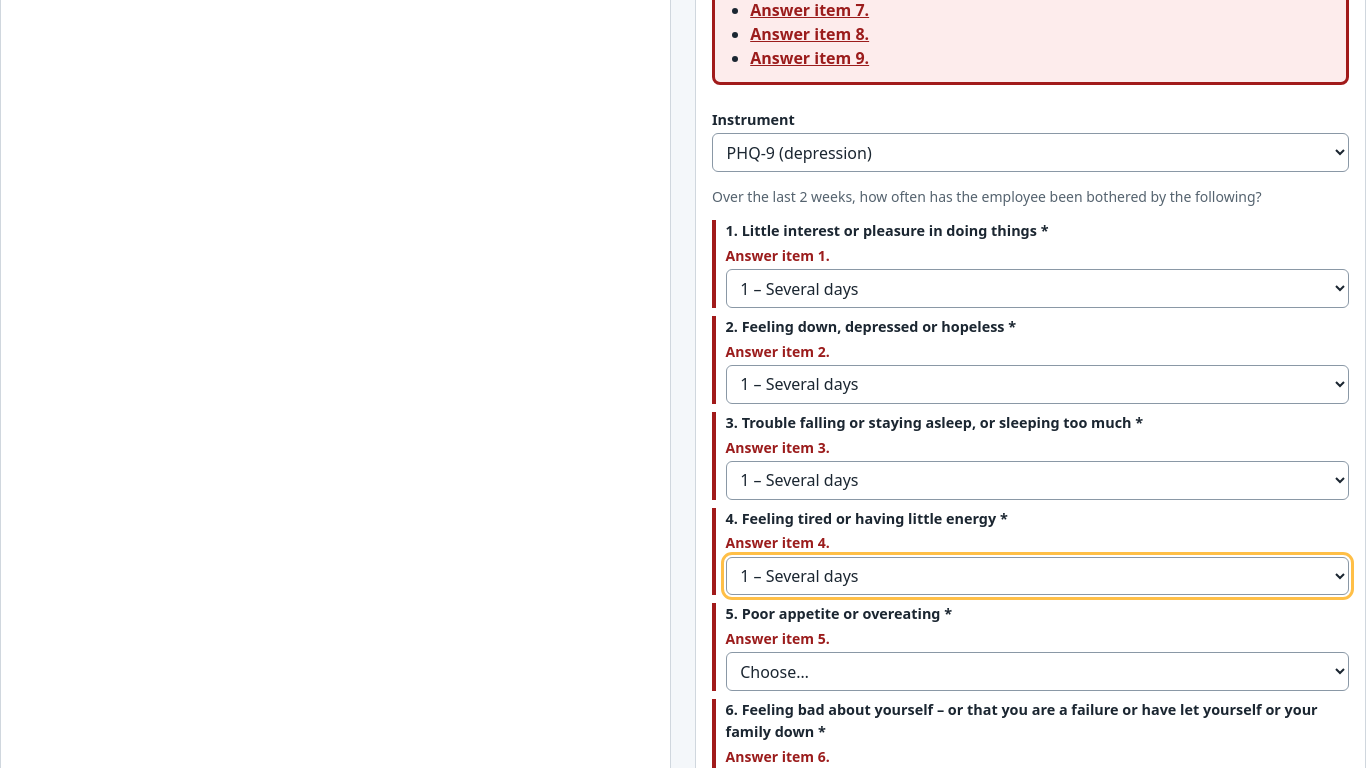
Test case: support cases (named clinician) › administers a PHQ-9 with live band, urgent warning and posts the answers
Earlier steps of the test are not shown.
(page scrolled)
Select "1 – Several days" in the dropdown labelled "5. Poor appetite or overeating *" at (1037, 672), box [726,652,1349,691]
(page scrolled)
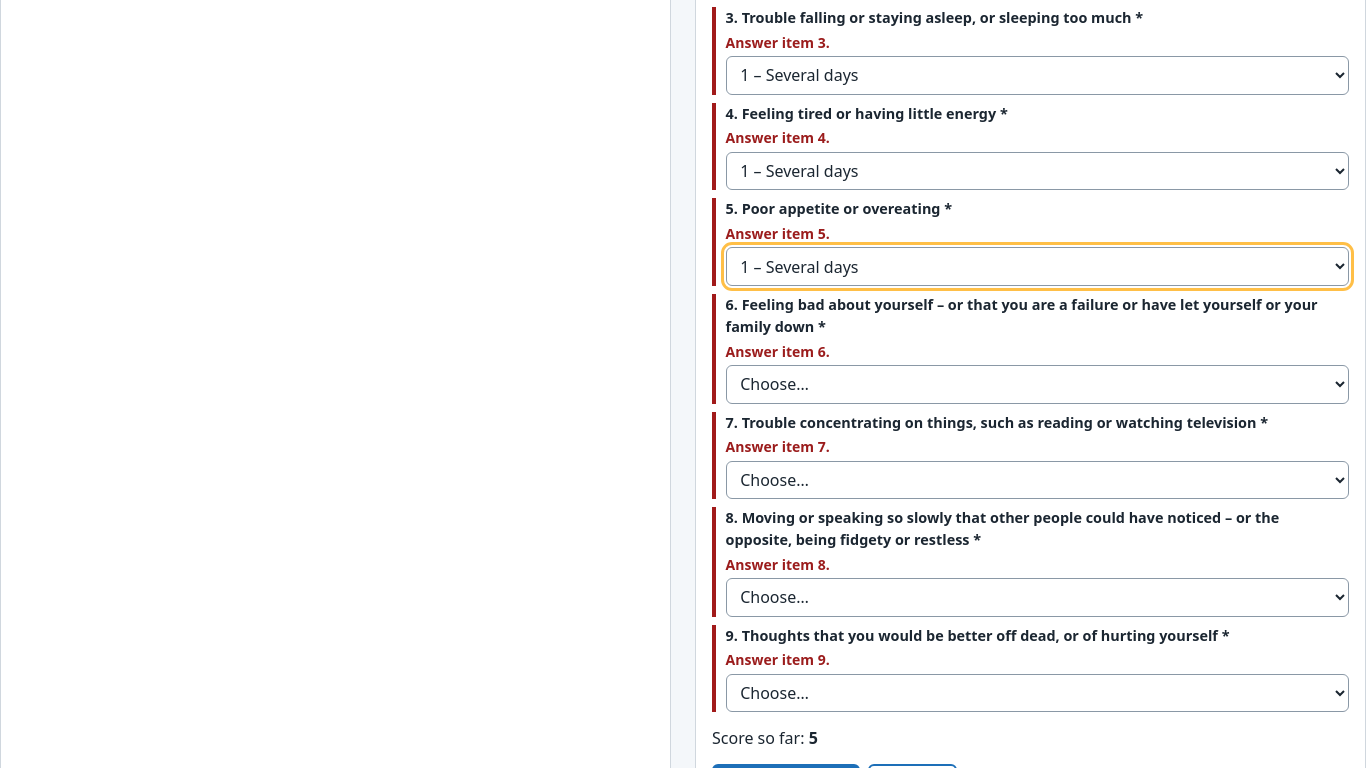
Select "1 – Several days" in the 4th dropdown at (1037, 384), box [726,365,1349,404]
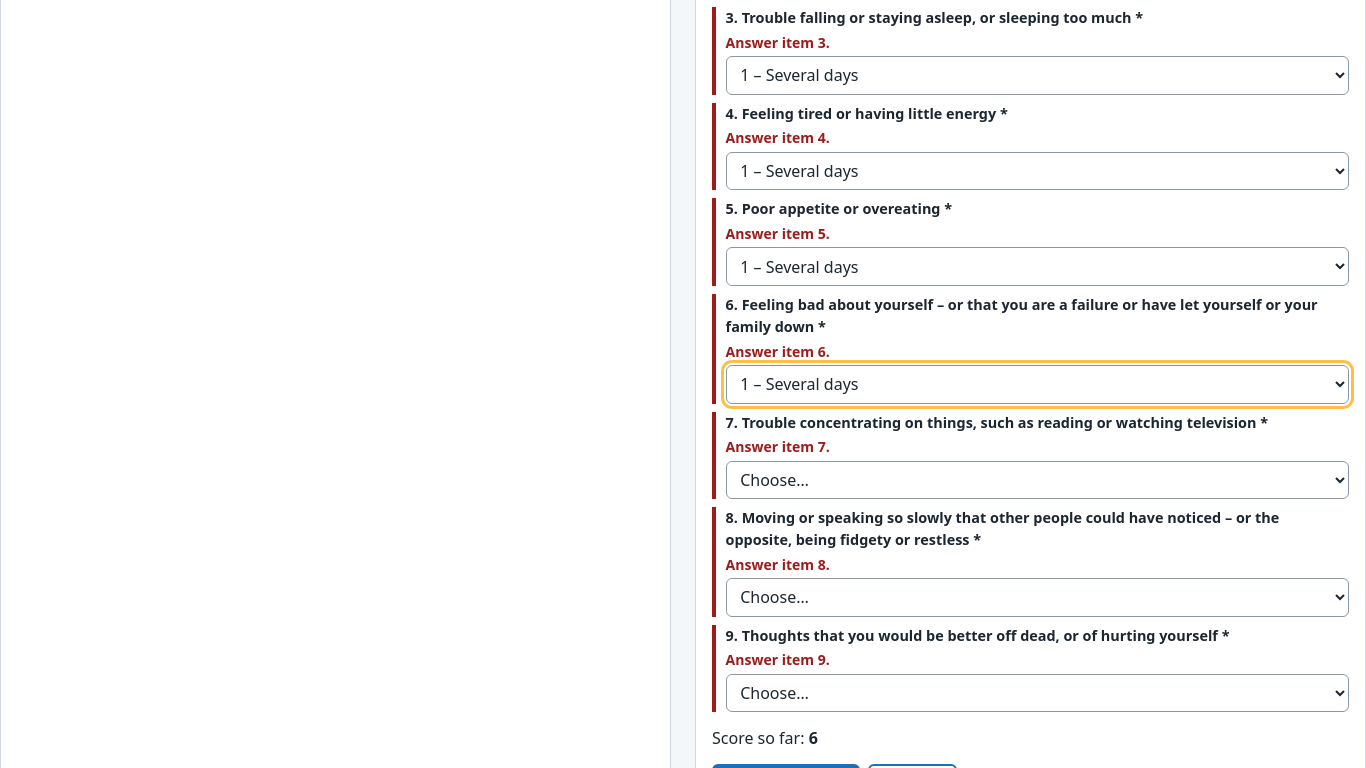
Select "1 – Several days" in the 5th dropdown at (1037, 480), box [726,460,1349,499]
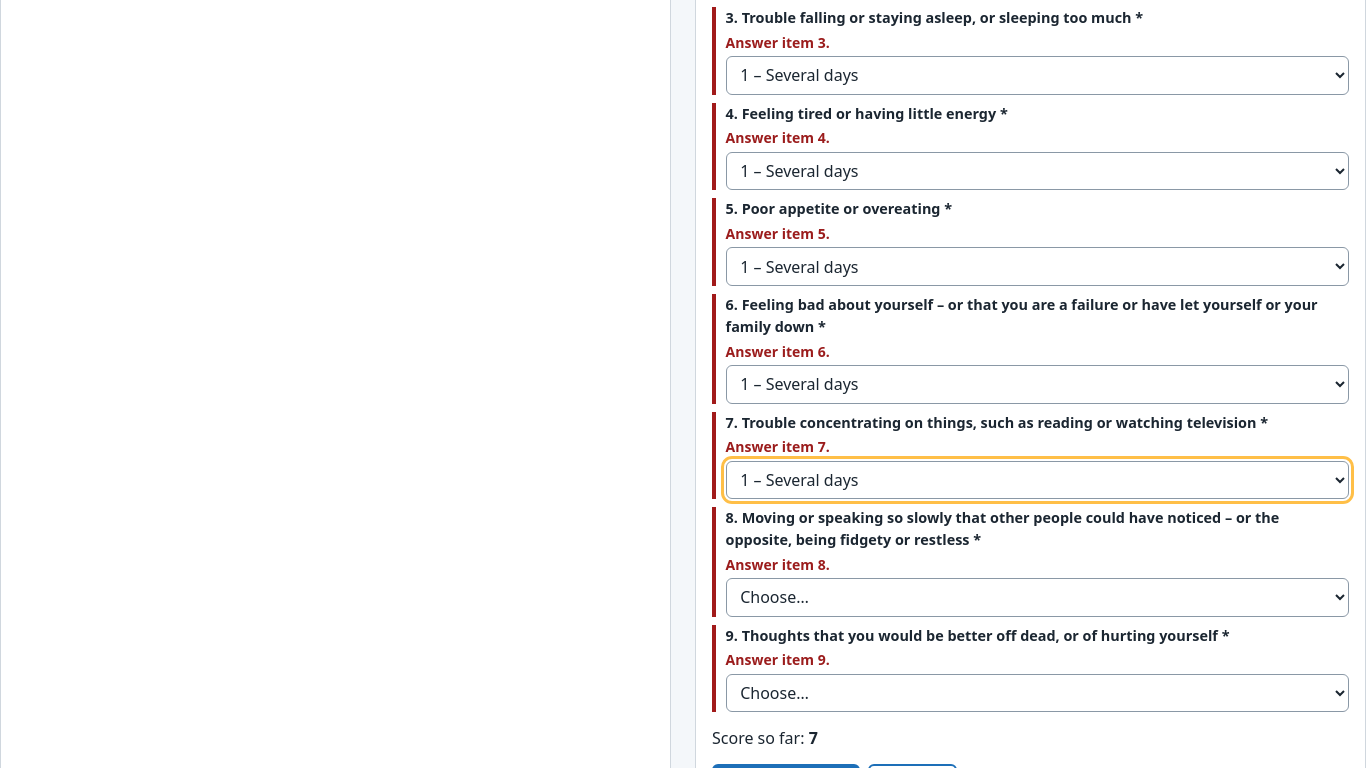
Select "1 – Several days" in the 6th dropdown at (1037, 597), box [726,578,1349,617]
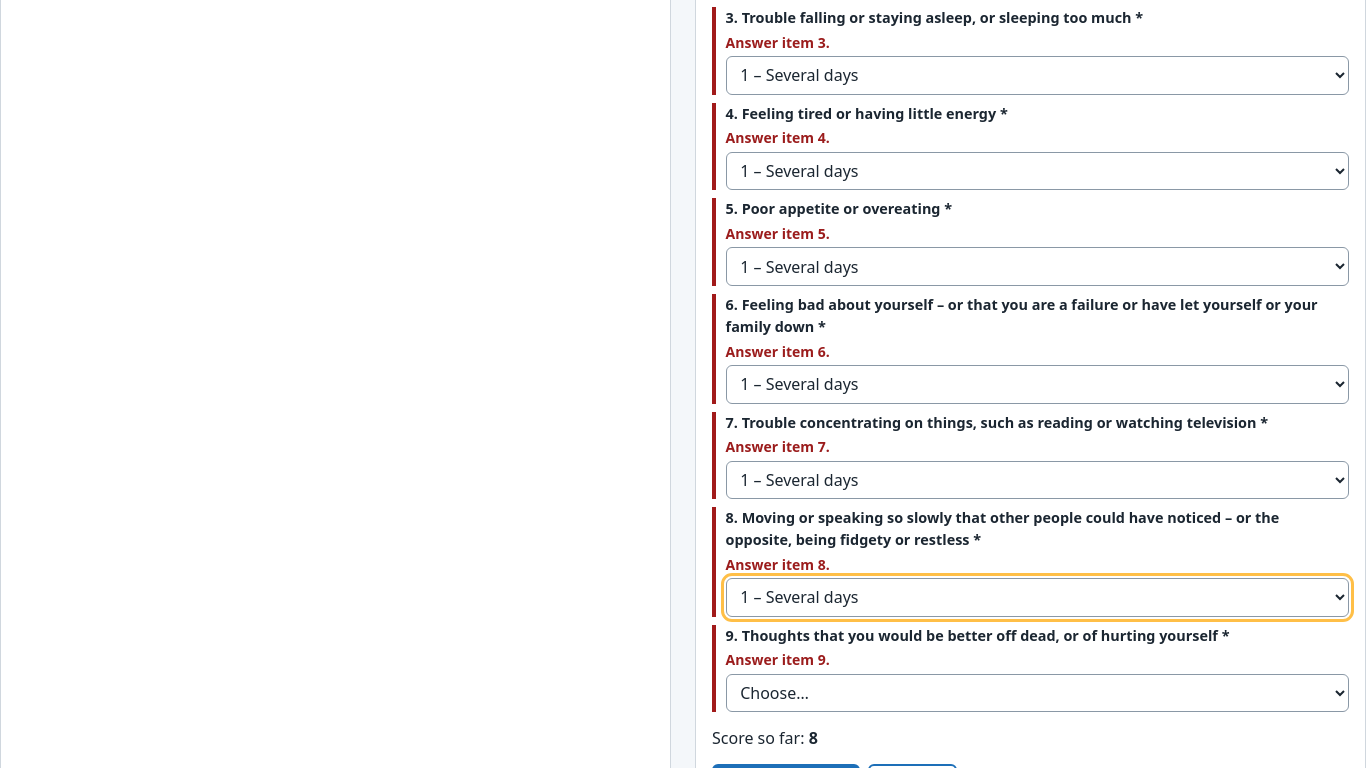
Select "1 – Several days" in the dropdown labelled "9. " at (1037, 693), box [726,674,1349,712]
(page scrolled)
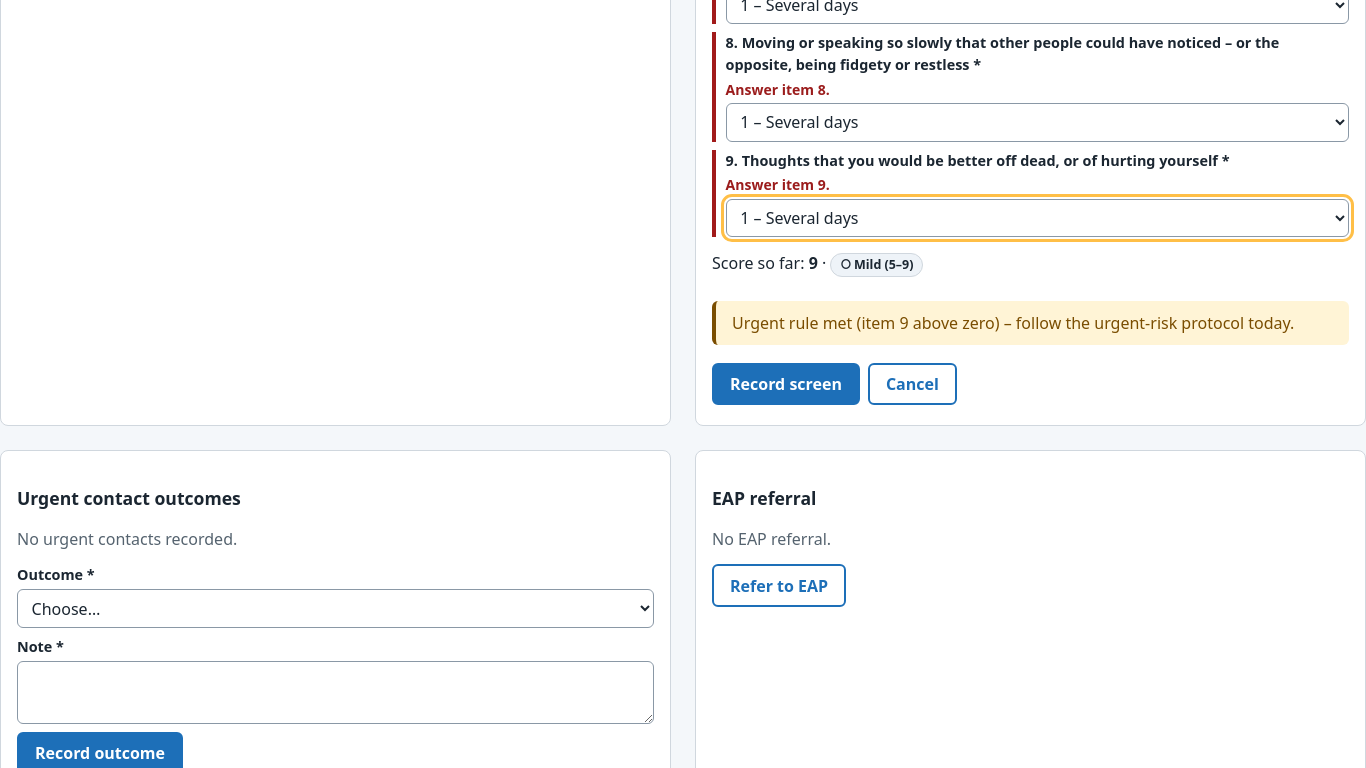
Expected: the text "Mild (5–9)" is shown, [854,256,914,273]
Expected: the text "Urgent rule met (item 9 above zero) – follow the urgent-risk protocol today." is shown, [712,300,1349,345]
Click the button "Record screen" at (786, 384), box [712,363,860,405]
(page scrolled)
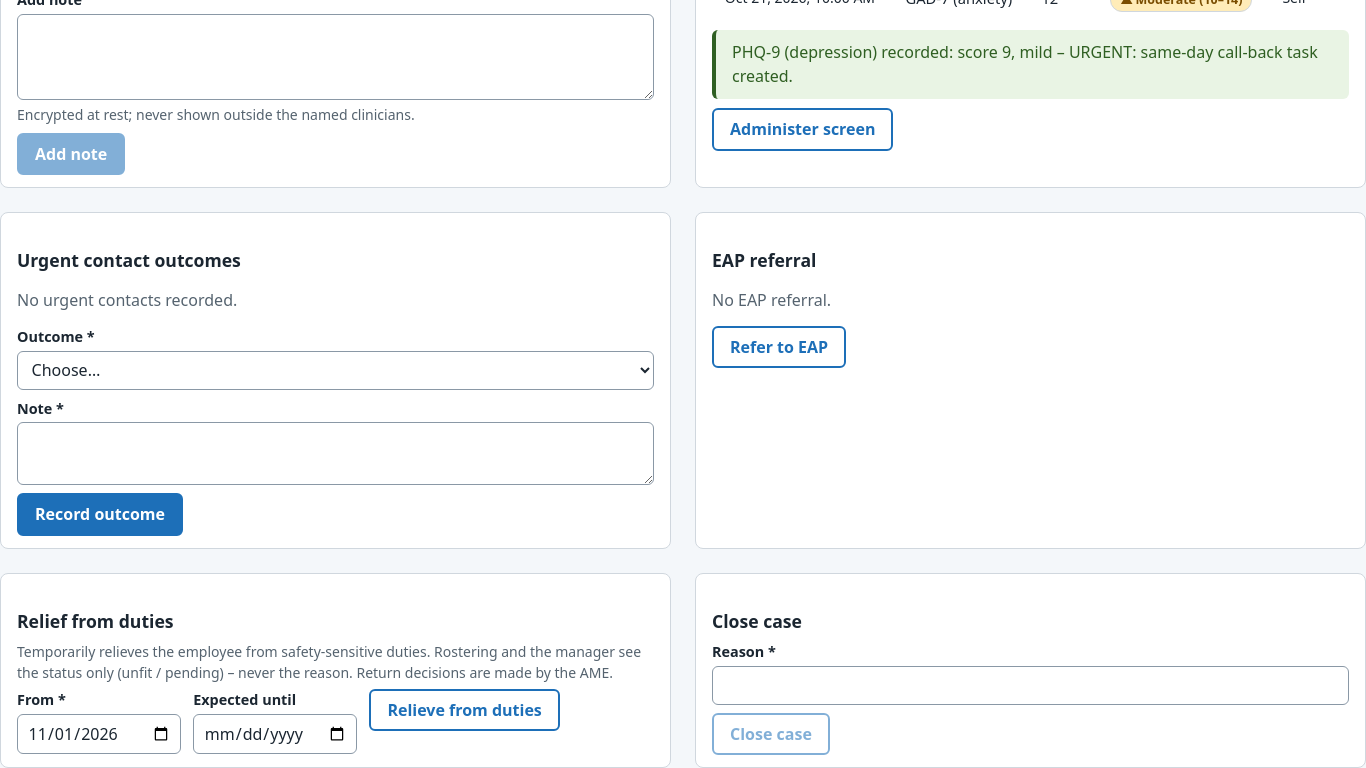
Expected: the text "URGENT: same-day call-back task created" is shown, [732,41,1318,87]
